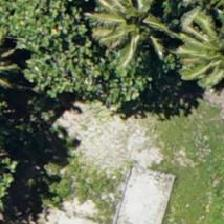coconut_tree: (84, 0, 174, 57), (166, 18, 223, 108)
